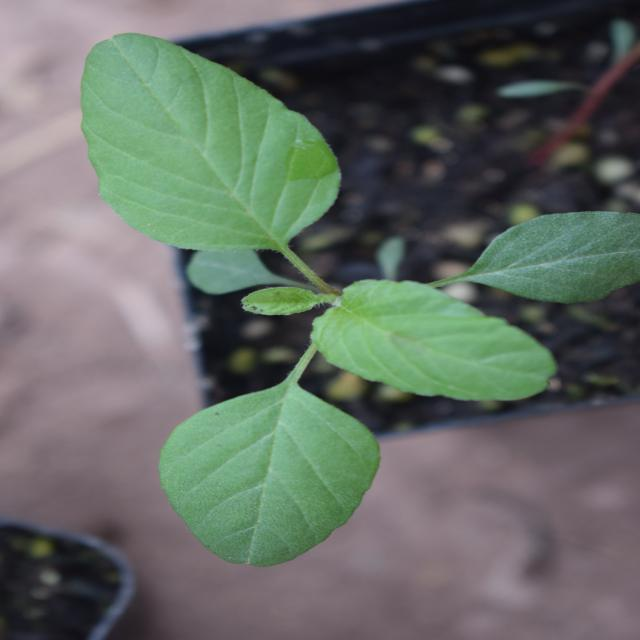pigweed: (78, 88, 611, 635)
